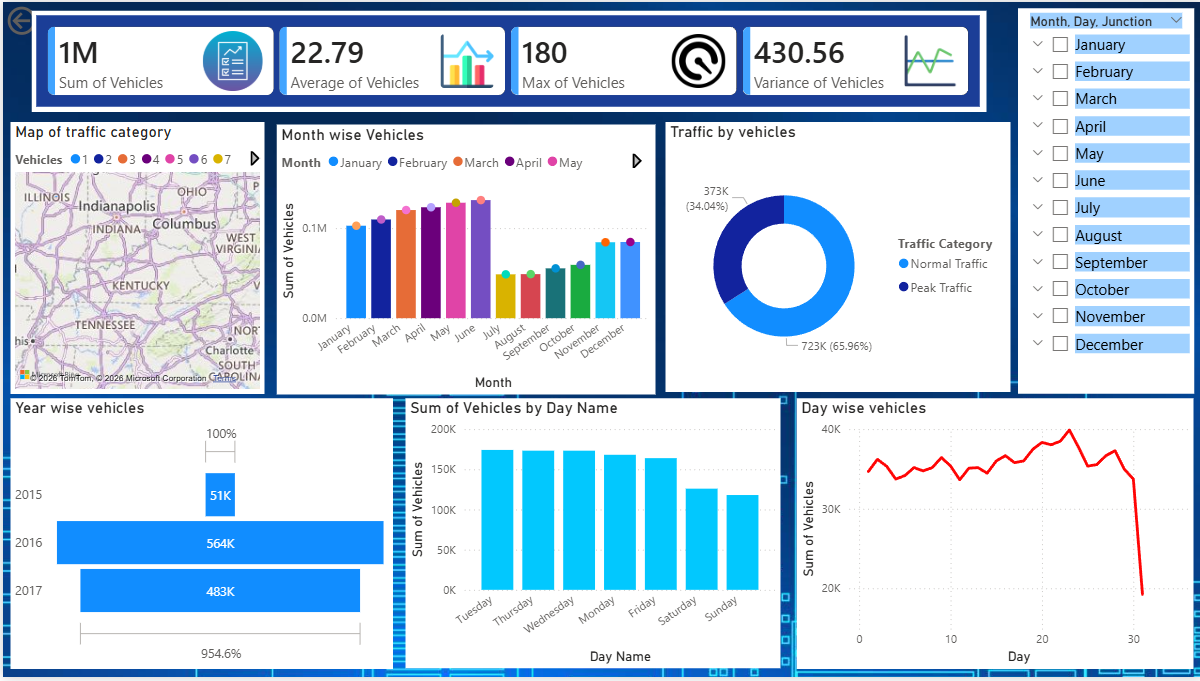

This screenshot's page, from the dashboard's own definition file:
{"tool":"powerbi","page":{"name":"Page 1","canvas":[1280,720],"ordinal":0},"visuals":[{"type":"lineChart","title":"Day wise vehicles","fields":{"Category":["project 2 (2).Date.Variation.Date Hierarchy.Day"],"Y":["Sum(project 2 (2).Vehicles)"]},"box":[847.3,423,423,289.2],"z":0},{"type":"columnChart","fields":{"Y":["Sum(project 2 (2).Vehicles)"],"Category":["project 2 (2).Day Name"]},"box":[429.5,423.3,400,288.3],"z":1000},{"type":"lineStackedColumnComboChart","title":"Month wise Vehicles","fields":{"Category":["project 2 (2).Date.Variation.Date Hierarchy.Month"],"Series":["project 2 (2).Date.Variation.Date Hierarchy.Month"],"Y2":["Sum(project 2 (2).Vehicles)"],"Y":["Sum(project 2 (2).Vehicles)"]},"box":[292,130.1,403.7,288.3],"z":2000},{"type":"donutChart","title":"Traffic by vehicles","fields":{"Category":["project 2 (2).Traffic Category"],"Y":["Sum(project 2 (2).Vehicles)"]},"box":[706.8,127.6,368.1,288.3],"z":3000},{"type":"slicer","fields":{"Values":["project 2 (2).Date.Variation.Date Hierarchy.Month","project 2 (2).Date.Variation.Date Hierarchy.Day","project 2 (2).Junction"]},"box":[1082.4,6.8,187.8,410.8],"z":4000},{"type":"funnel","title":"Year wise vehicles","fields":{"Y":["Sum(project 2 (2).Vehicles)"],"Category":["project 2 (2).Date.Variation.Date Hierarchy.Year"]},"box":[8.1,423,408.1,289.2],"z":5000},{"type":"actionButton","box":[0,0,100,40],"z":6000},{"type":"cardVisual","fields":{"Data":["Sum(project 2 (2).Vehicles)","Avg(project 2 (2).Vehicles)","Max(project 2 (2).Vehicles)","Min(project 2 (2).Vehicles)"]},"box":[30.7,9.8,1018.4,108],"z":7000},{"type":"filledMap","title":"Map of traffic category","fields":{"Category":["project 2 (2).Traffic Category"],"Series":["project 2 (2).Vehicles"]},"box":[7.9,127.9,270.7,289.3],"z":8000}]}

Visuals, with their boxes in screenshot pixels (x1, y1, x2, y2), scaled from the page's 1280x720 canvas onto the 1200x681 screenshot:
"Day wise vehicles" lineChart: [left=794, top=400, right=1191, bottom=674]
columnChart - Sum(project 2 (2).Vehicles) x project 2 (2).Day Name: [left=403, top=400, right=778, bottom=673]
"Month wise Vehicles" lineStackedColumnComboChart: [left=274, top=123, right=652, bottom=396]
"Traffic by vehicles" donutChart: [left=663, top=121, right=1008, bottom=393]
slicer - project 2 (2).Date.Variation.Date Hierarchy.Month x project 2 (2).Date.Variation.Date Hierarchy.Day: [left=1015, top=6, right=1191, bottom=395]
"Year wise vehicles" funnel: [left=8, top=400, right=390, bottom=674]
actionButton: [left=0, top=0, right=94, bottom=38]
cardVisual - Sum(project 2 (2).Vehicles) x Avg(project 2 (2).Vehicles): [left=29, top=9, right=984, bottom=111]
"Map of traffic category" filledMap: [left=7, top=121, right=261, bottom=395]
